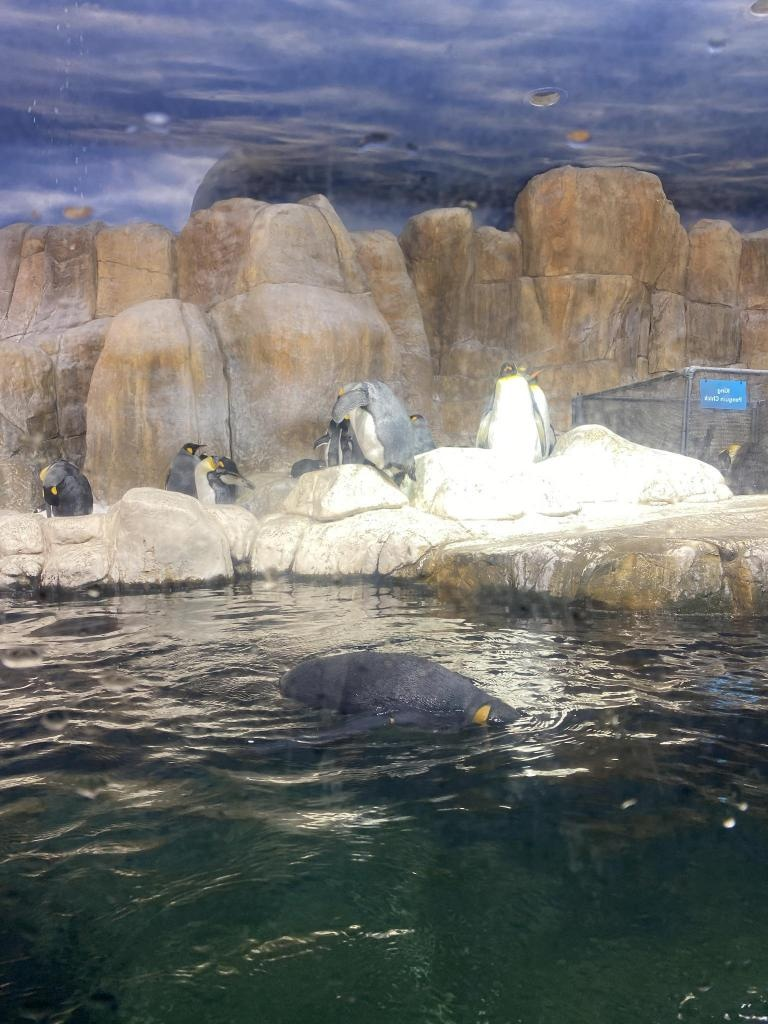penguin: (252, 649, 524, 751), (334, 380, 416, 486), (475, 360, 543, 462), (40, 459, 94, 515), (522, 367, 552, 457), (165, 440, 207, 496), (195, 452, 233, 502), (408, 412, 438, 452)
